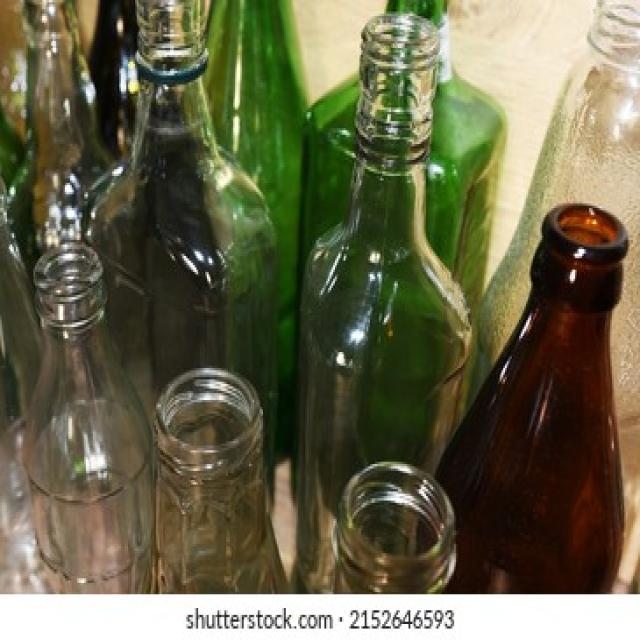glass: (294, 16, 470, 437), (503, 210, 631, 583), (18, 240, 156, 583), (146, 375, 291, 596)
